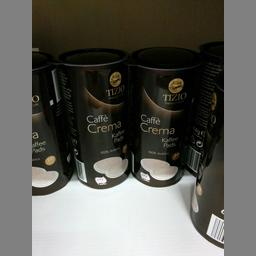coffee: (57, 46, 130, 188), (129, 46, 200, 185)
